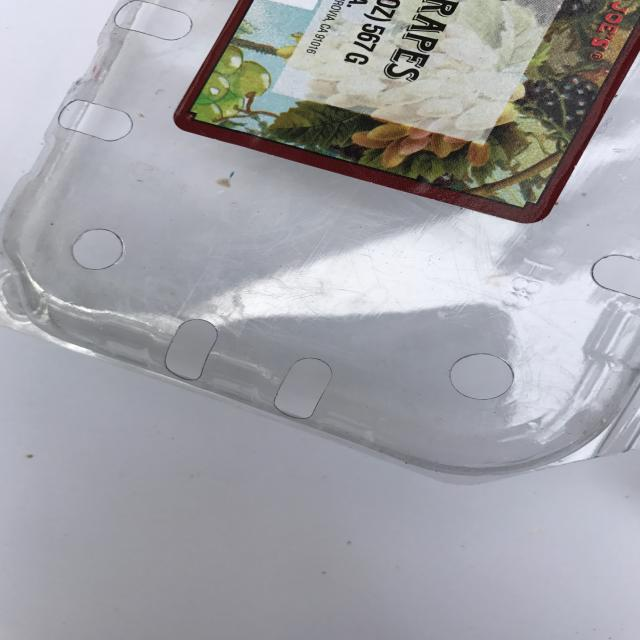plastic: (0, 0, 640, 484)
